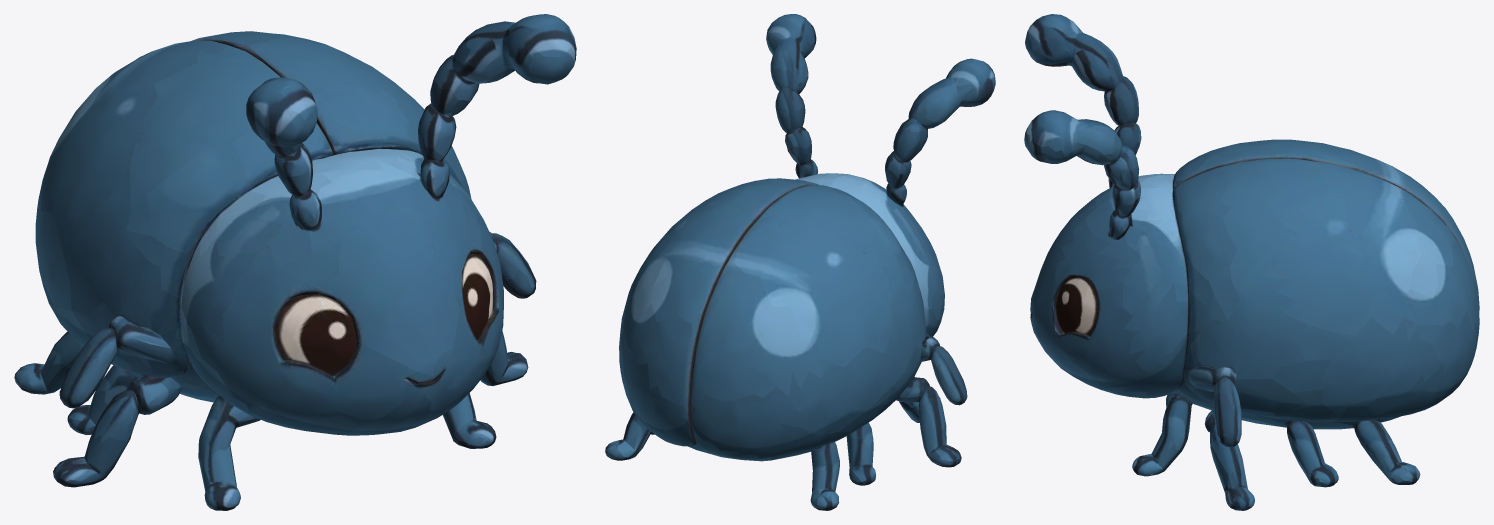
The model's file is pet_scuttle.glb.
3 renders of one model, left to right at view 1: azimuth 30°, elevation 25°; view 2: azimuth 150°, elevation 25°; view 3: azimuth 270°, elevation 25°, orthographic. The views are drawn at different scales.
Bounding box in the file's own units: 1.75 × 1.68 × 1.9.
Materials: 1 (1 with a texture image).
